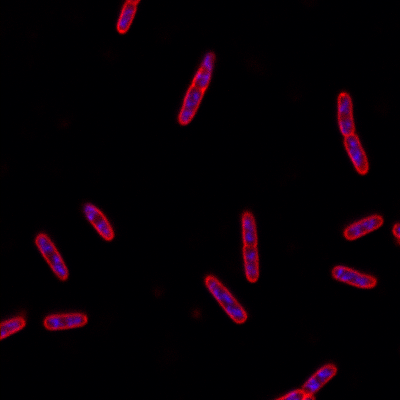Control: (337, 90, 370, 177), (205, 274, 247, 325), (34, 232, 69, 283), (241, 209, 260, 284), (331, 264, 376, 290), (343, 214, 383, 241), (43, 312, 88, 331)
Oblique: (175, 52, 218, 127), (83, 202, 114, 243)
